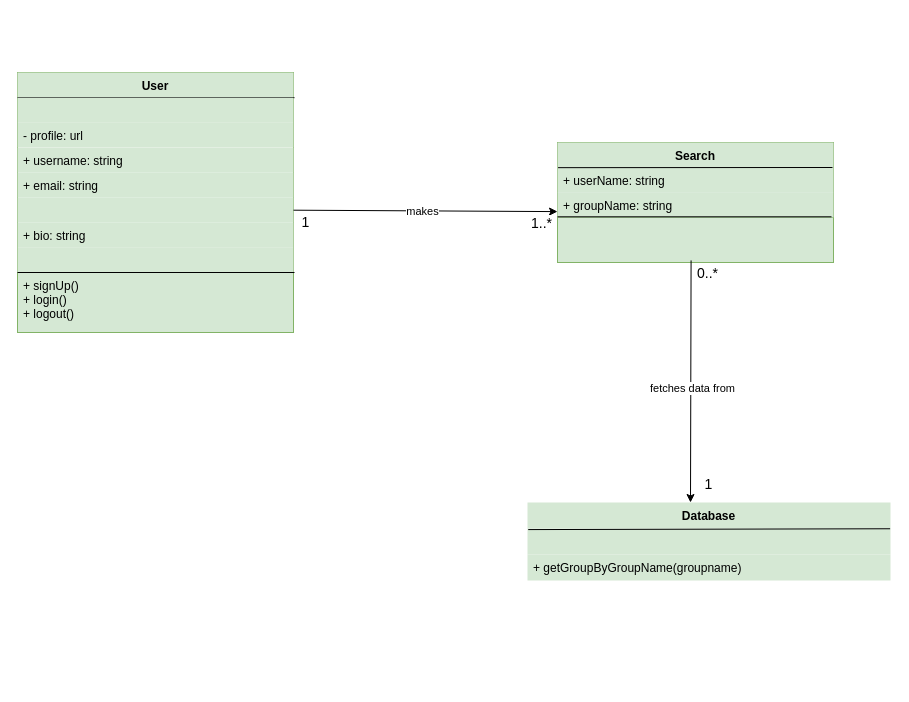
Some shapes in this 909 by 702 pixel diagram are drawn without their labels. The centre of each missing label's shape, as x and y in pixels:
"+ getUserByUsername() + getGroupByGroupName()" goes at pixel 695 239.
"+ getUserByUsername(username: User)" goes at pixel 708 541.
"+ is_Online: string" goes at pixel 155 259.
"+ phoneNo: string" goes at pixel 155 209.
"+ userId: string" goes at pixel 155 109.
